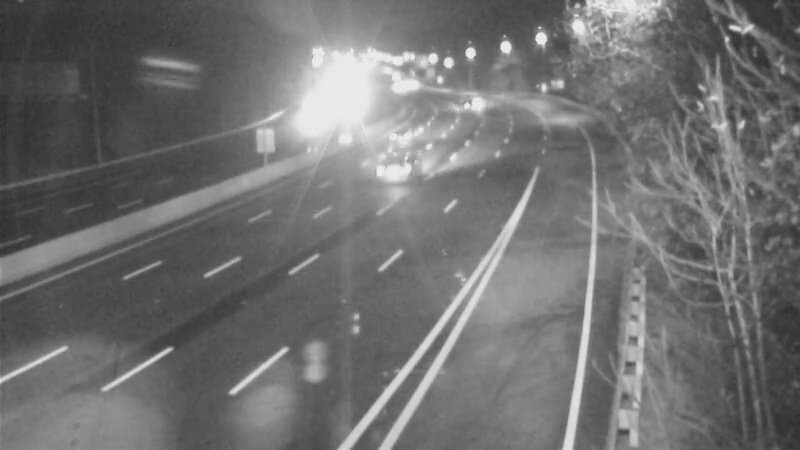vehicle: (355, 126, 435, 206), (372, 63, 422, 113), (442, 76, 492, 126), (376, 110, 426, 160)
